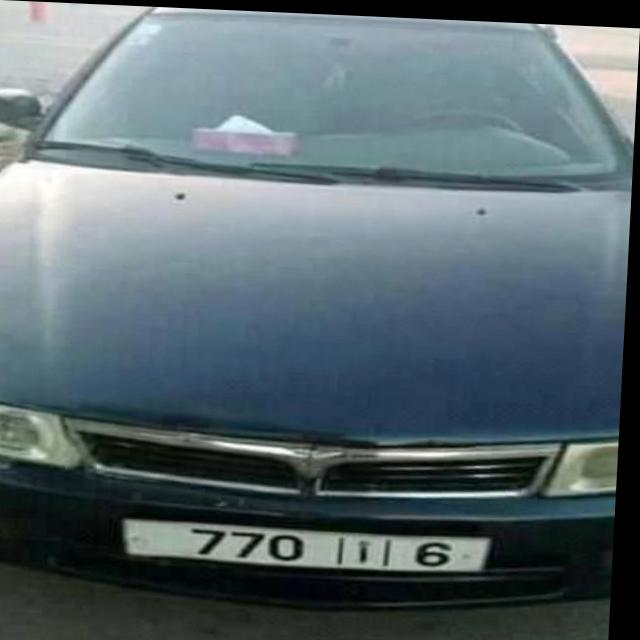License-Plate: (129, 517, 496, 568)
